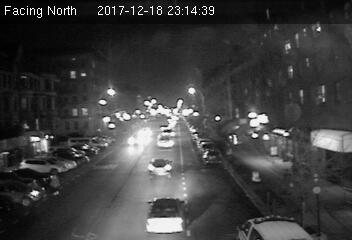car: (144, 195, 189, 232), (146, 158, 174, 178), (200, 150, 222, 166), (155, 134, 176, 149)
police: (235, 215, 314, 240)
